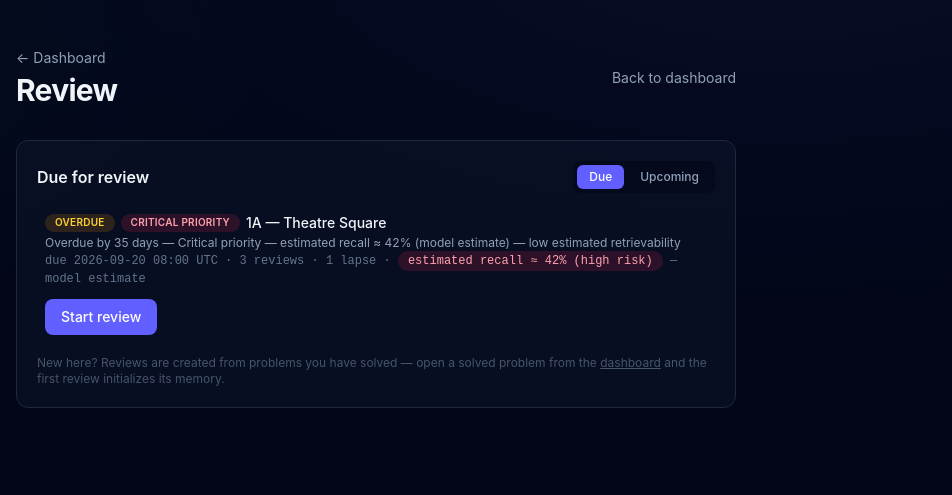
due queue lists problems and starts a session with outcome controls
Check: the text "1A — Theatre Square" is shown, box x1=246 y1=213 x2=386 y2=233
Check: the text "Overdue" is shown, box x1=45 y1=214 x2=114 y2=232
What coordinates should you click on to do the following:
click the button "Start review"
I would click on:
 (101, 317)
Its box is x1=45 y1=299 x2=157 y2=335.
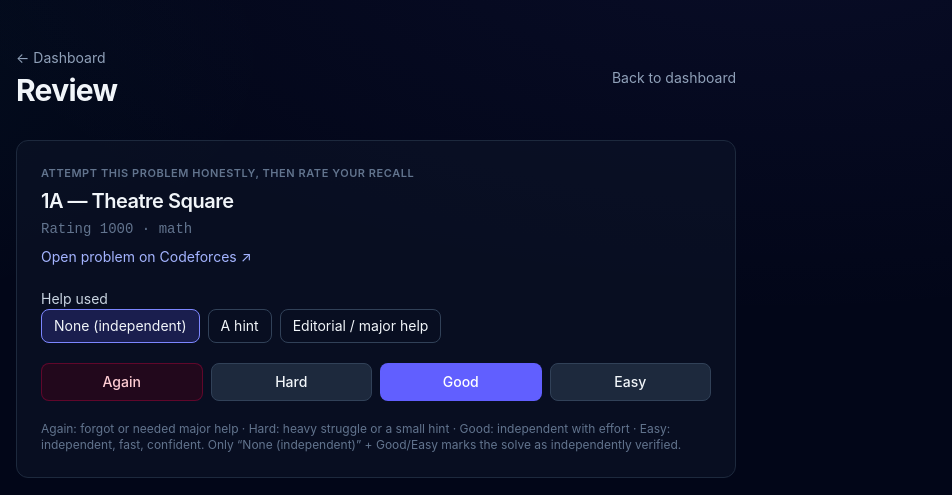
Check: the heading "1A — Theatre Square" is shown, box x1=41 y1=189 x2=234 y2=213
Check: the button "Good" is shown, box x1=380 y1=363 x2=542 y2=401
Check: the button "Easy" is shown, box x1=550 y1=363 x2=711 y2=401
